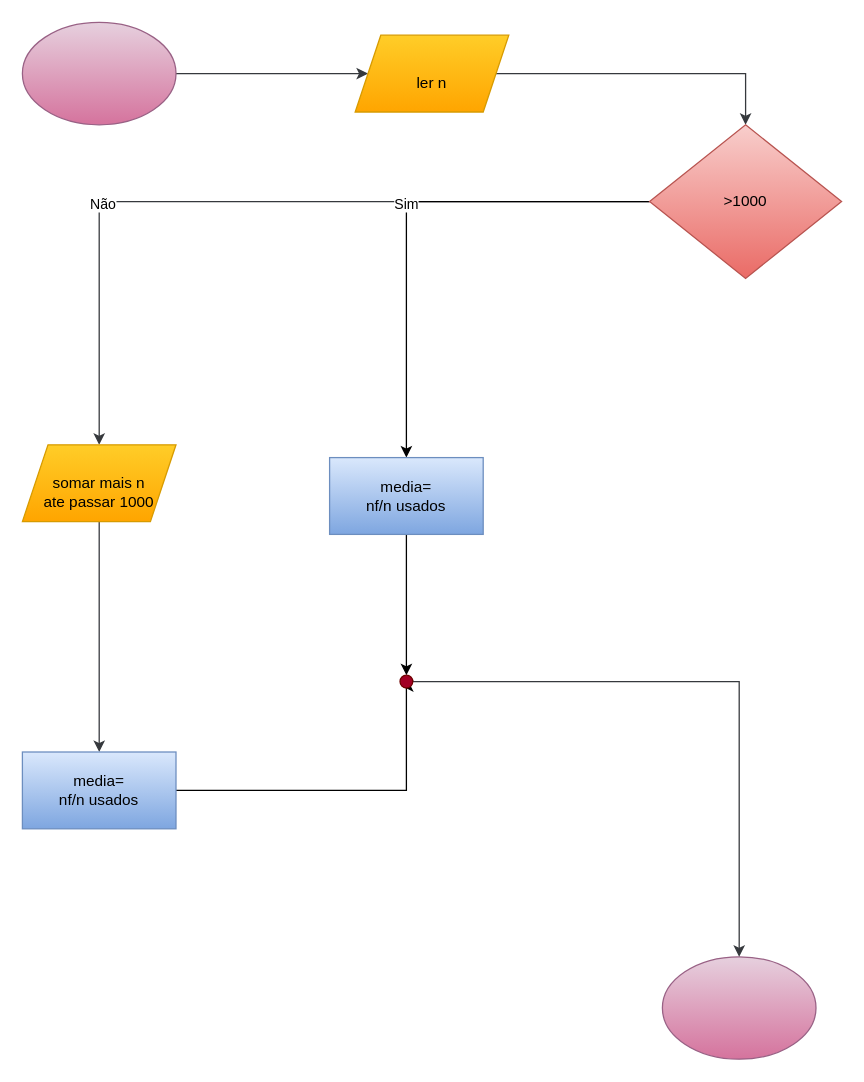
The diagram is 864 pixels wide and 1082 high, and some of its shapes have lost their labels. The centre of each missing label's shape, as x and y in pixels:
"Fim" belongs at (x=738, y=1007).
"Inicio" belongs at (x=98, y=73).
